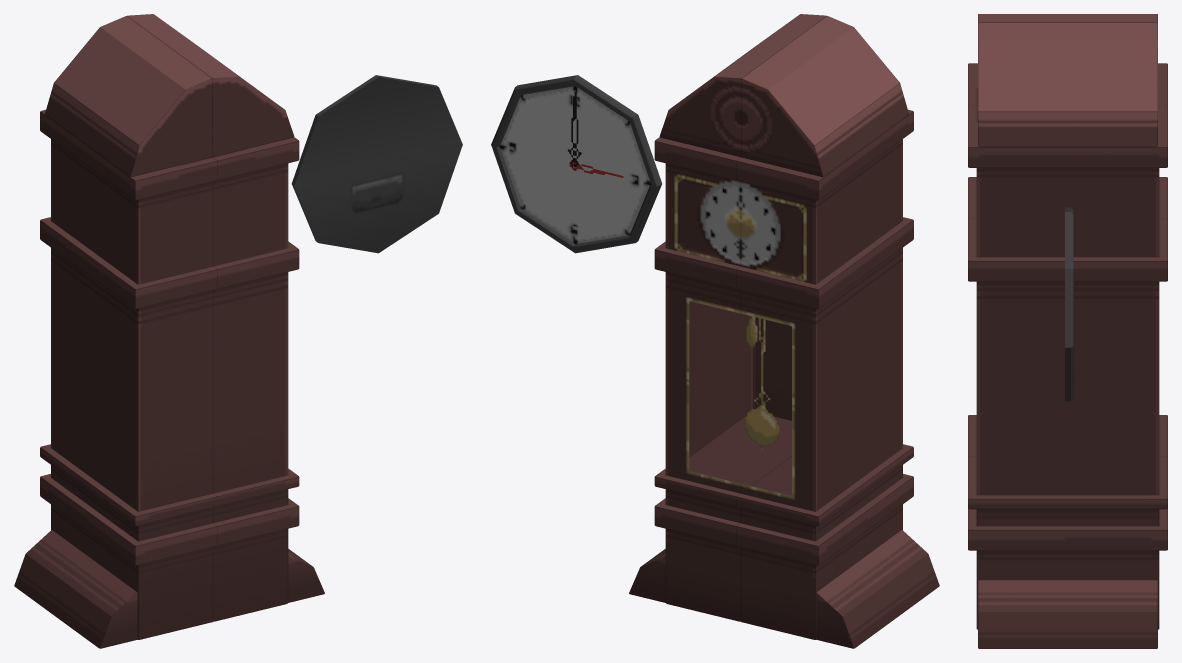
The model's file is Clocks.obj.
The picture shows the model from 3 angles, left to right: view 1: azimuth 30°, elevation 25°; view 2: azimuth 150°, elevation 25°; view 3: azimuth 270°, elevation 25°; orthographic projection. The views are drawn at different scales.
Visible parts, largest first — view 1: cuboid; view 2: cuboid, plane; view 3: cuboid.
Boxes of the visible parts, left/top/right/bottom form: cuboid: left=14, top=14, right=462, bottom=648; cuboid: left=491, top=14, right=939, bottom=648; plane: left=567, top=92, right=779, bottom=450; cuboid: left=968, top=14, right=1167, bottom=648.
Size of the model in its own units: 2.68 by 3.44 by 1.09.
